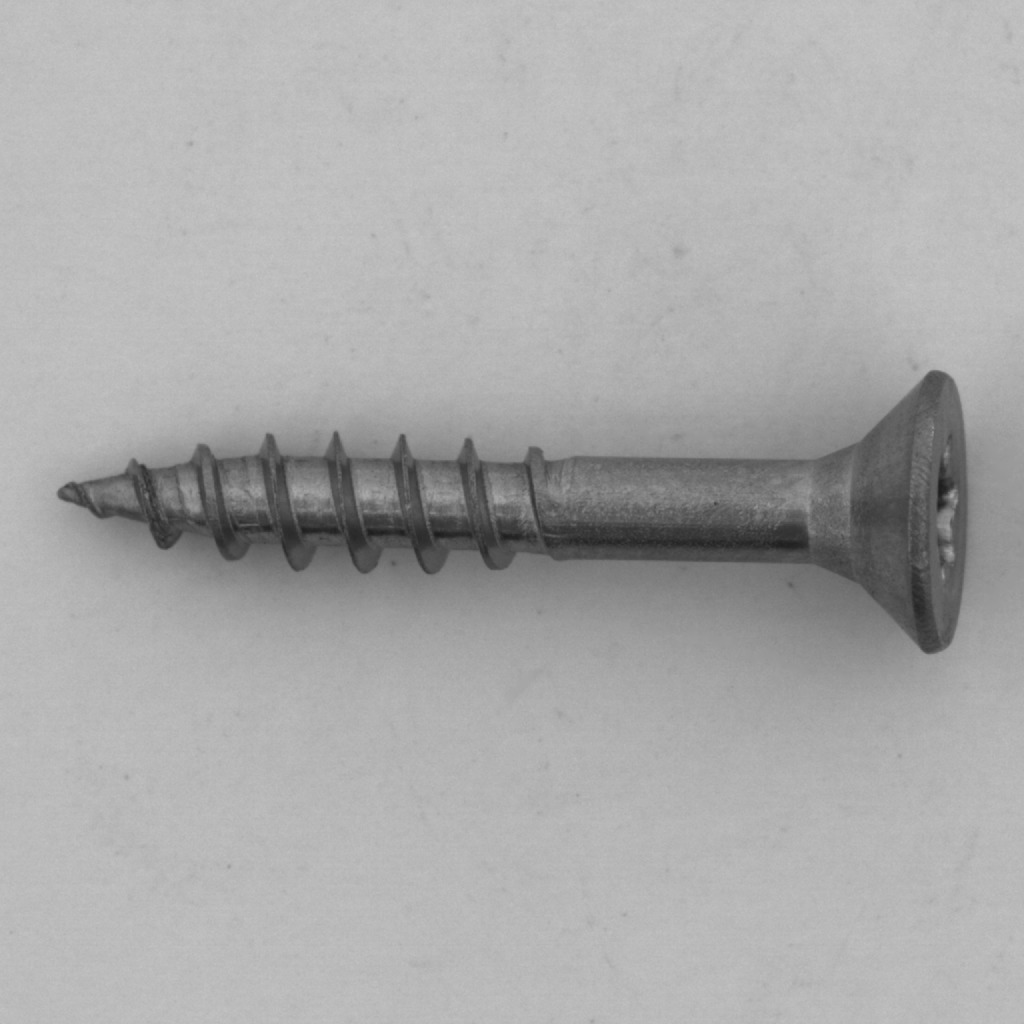good: (41, 349, 992, 677)
